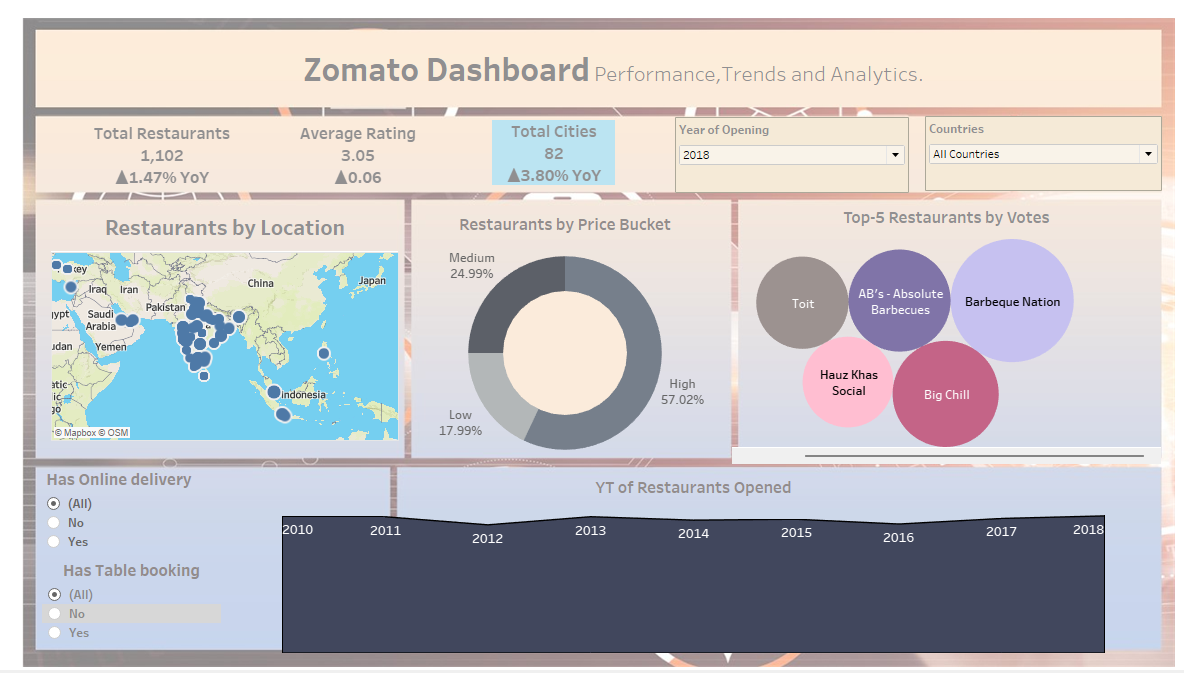

The dashboard page shown, as its layout file describes it:
{"tool":"tableau","page":{"name":"Dashboard 1","canvas":[1600,900],"ordinal":0},"visuals":[{"type":"text","box":[125,67,1083,66]},{"type":"worksheet","title":"Average Rating","mark":"Automatic","box":[319,148,183,78]},{"type":"worksheet","title":"Total Cities","mark":"Automatic","box":[541,148,131,73]},{"type":"parameter","param":"[Parameters].[Parameter 2]","box":[978,148,237,75]},{"type":"parameter","param":"[Parameters].[Parameter 1]","box":[728,149,234,76]},{"type":"worksheet","title":"Total Restaurants","mark":"Automatic","box":[126,150,178,74]},{"type":"worksheet","title":"Top-5 Restaurants by Votes","mark":"Circle","box":[781,230,437,270]},{"type":"worksheet","title":"Restaurants by Location","mark":"Automatic","rows":["Latitude"],"cols":["Longitude"],"box":[100,236,356,241]},{"type":"worksheet","title":"Price Bucket","mark":"Pie","rows":["Calculation_707628120092913684","Calculation_707628120092913684"],"box":[471,237,294,259]},{"type":"filter","title":"Average Rating","param":"[federated.00gab4p14eqgsp17b2awm16x5t3e].[none:Has_Online_delivery:nk]","box":[94,500,156,84]},{"type":"worksheet","title":"YT of Restaurants Opened","mark":"Area","rows":["RestaurantID"],"cols":["Calculation_707628119971909632"],"box":[280,500,933,189]},{"type":"filter","title":"Average Rating","param":"[federated.00gab4p14eqgsp17b2awm16x5t3e].[none:Has_Table_booking:nk]","box":[95,591,179,89]}]}

Visuals, with their boxes in screenshot pixels (x1, y1, x2, y2), scaled from the page's 1600x900 canvas onto the 1184x673 screenshot:
text: <bbox>92, 50, 894, 99</bbox>
"Average Rating" worksheet: <bbox>236, 111, 371, 169</bbox>
"Total Cities" worksheet: <bbox>400, 111, 497, 165</bbox>
parameter: <bbox>724, 111, 899, 167</bbox>
parameter: <bbox>539, 111, 712, 168</bbox>
"Total Restaurants" worksheet: <bbox>93, 112, 225, 168</bbox>
"Top-5 Restaurants by Votes" worksheet (Circle marks): <bbox>578, 172, 901, 374</bbox>
"Restaurants by Location" worksheet: <bbox>74, 176, 337, 357</bbox>
"Price Bucket" worksheet (Pie marks): <bbox>349, 177, 566, 371</bbox>
"Average Rating" filter: <bbox>70, 374, 185, 437</bbox>
"YT of Restaurants Opened" worksheet (Area marks): <bbox>207, 374, 898, 515</bbox>
"Average Rating" filter: <bbox>70, 442, 203, 508</bbox>
